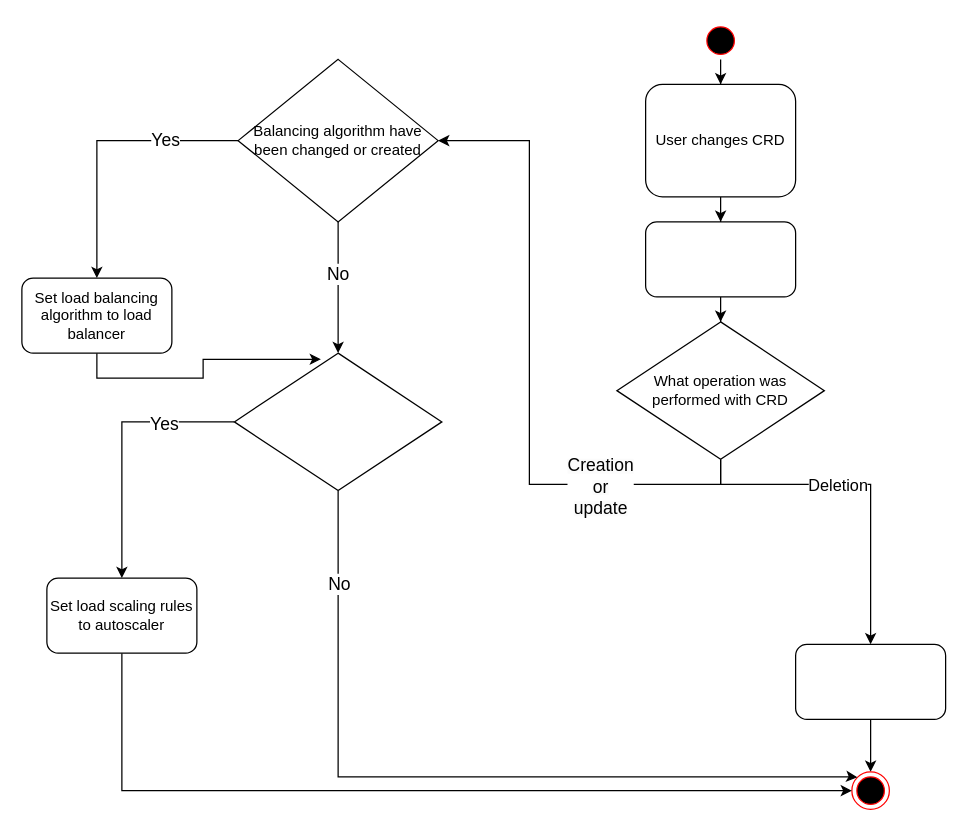
The diagram is 968 pixels wide and 831 high, and some of its shapes have lost their labels. The shapes that lost their labels are listed below. From the top down, each one's centre as x and y in pixels, then its label:
At point 720,259: "Kubernetes Runtime Controller Invokes Reconsile Method".
At point 337,421: "Scaling rules have been changed or created".
At point 870,681: "Removing these deployments from autoscaler and load balancer".
